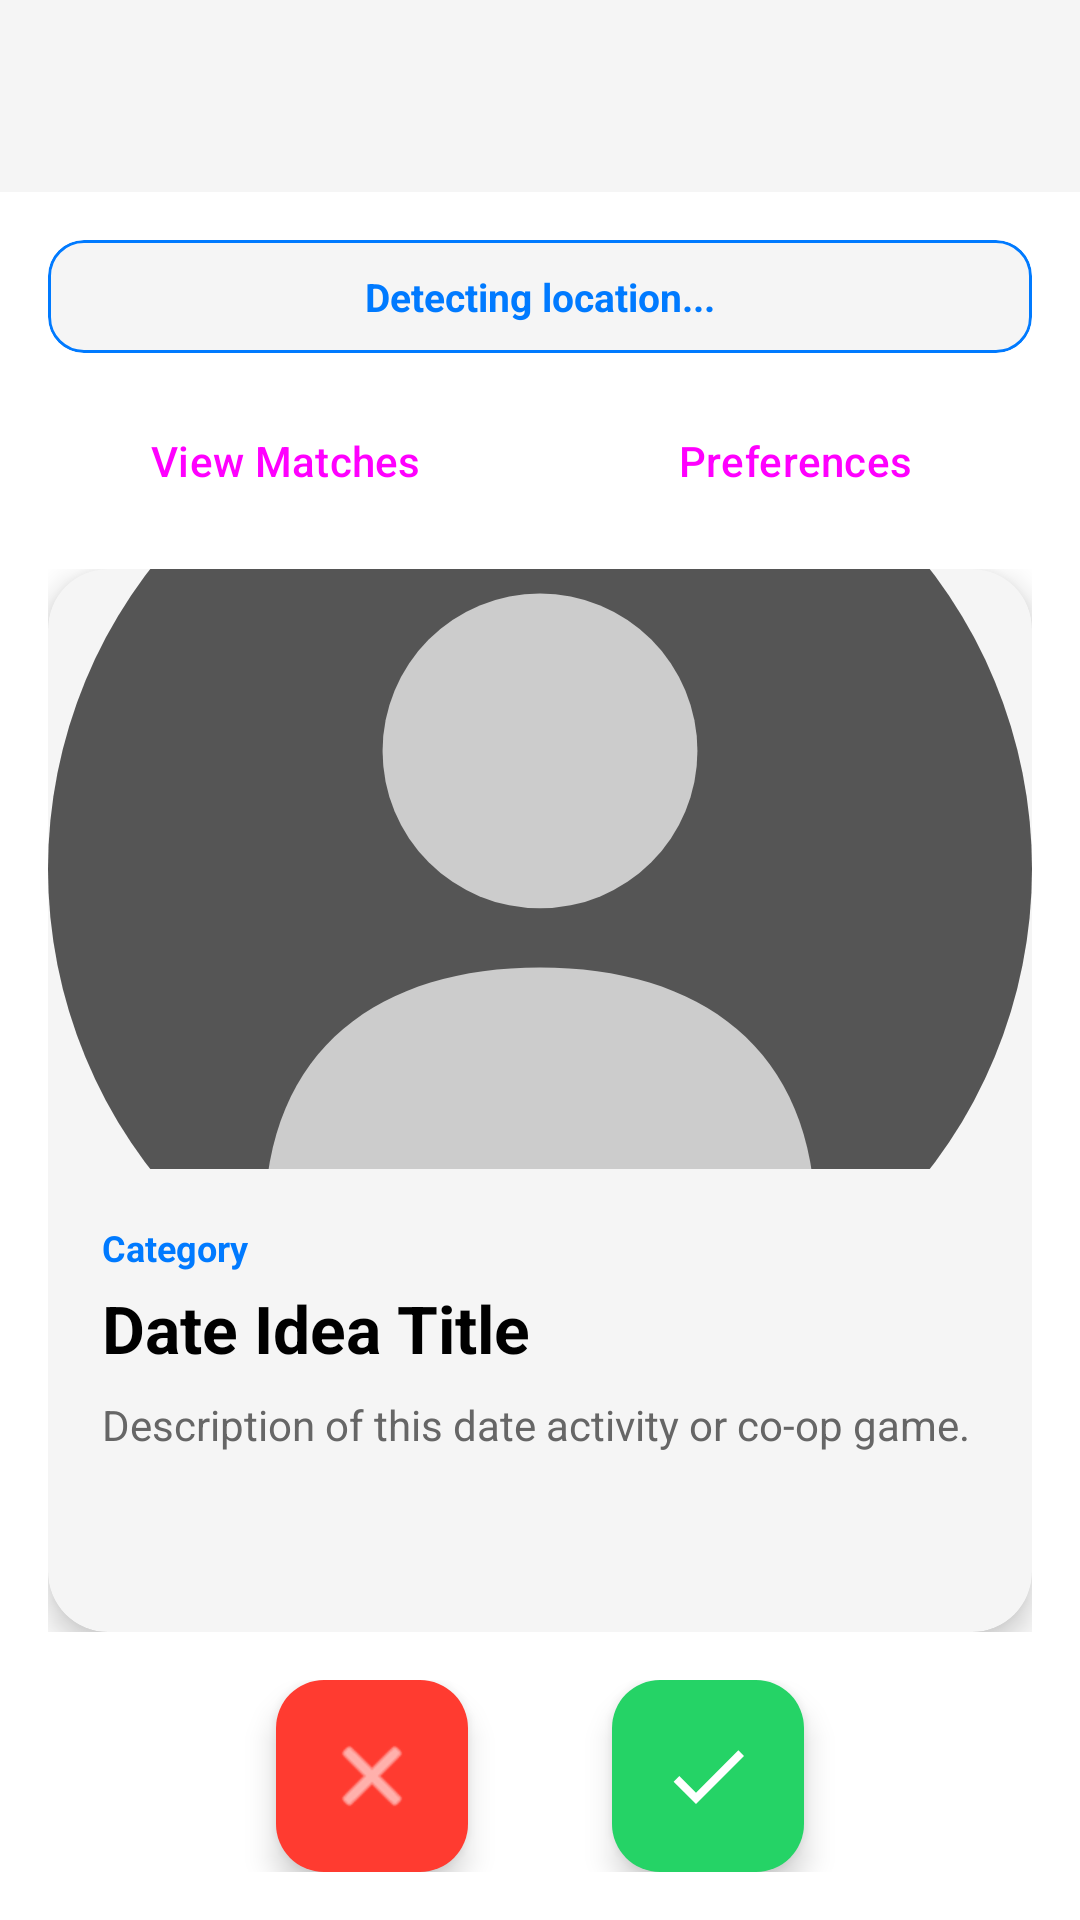

Screen size 1080×1920. Icon name, then its center in pixels as (x=x, y=y):
Like: (x=708, y=1776)
Pass: (x=372, y=1776)
